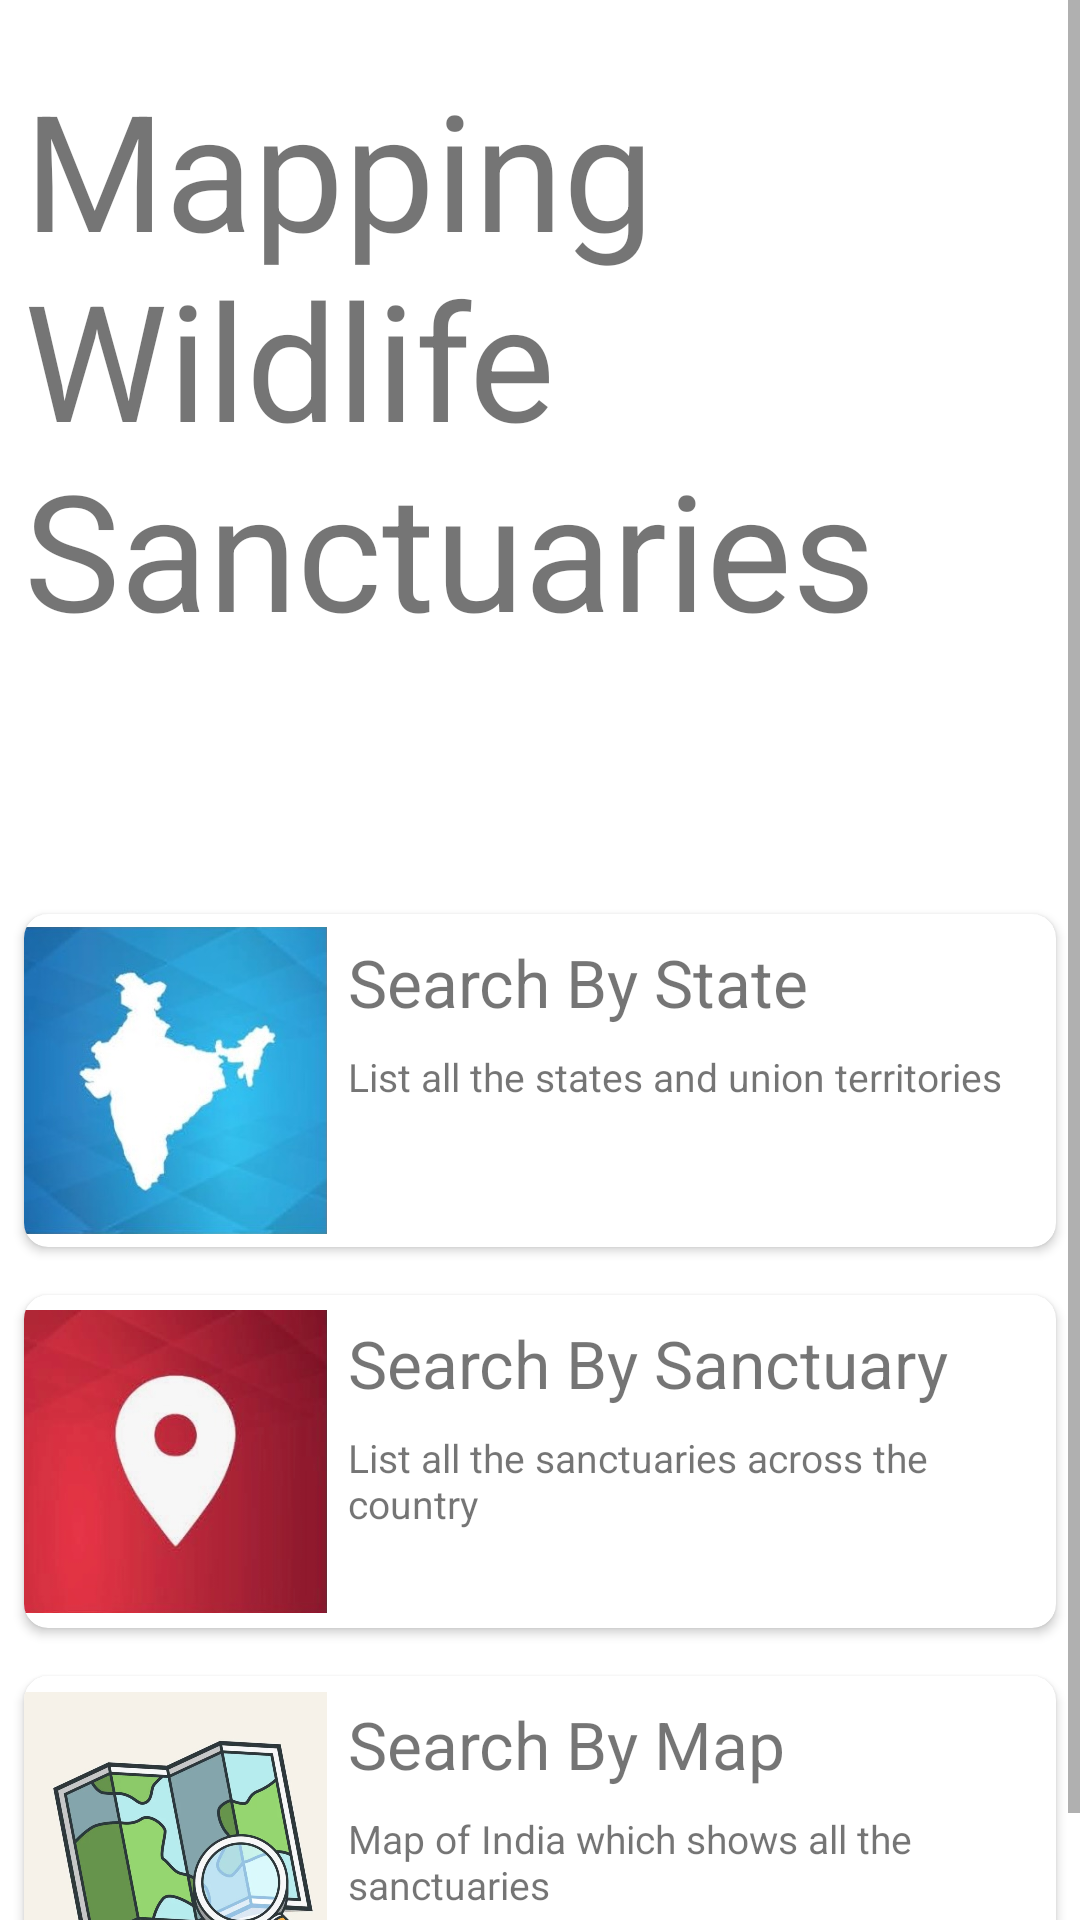

Point at icon controls on the screen. Image size 1080x1920, points as (x=x, y=y).
ind: (x=175, y=1087)
pin: (x=175, y=1469)
